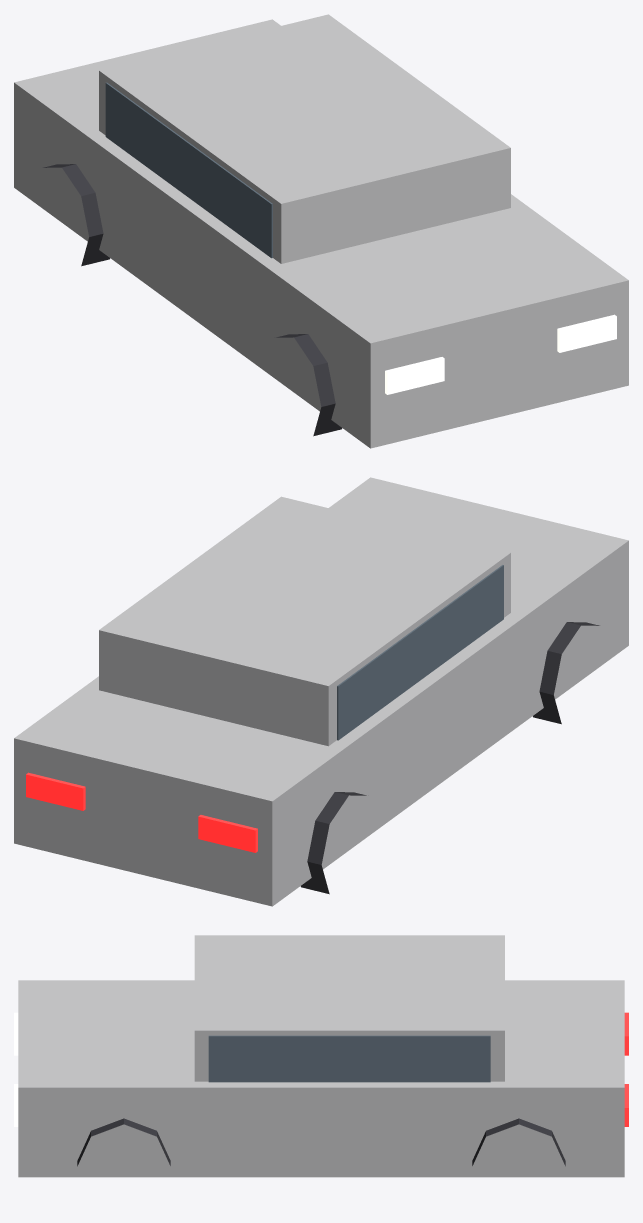
The model's file is car_parked_white.glb.
3 views of the same model, one above another, from view 1: azimuth 30°, elevation 25°; view 2: azimuth 150°, elevation 25°; view 3: azimuth 270°, elevation 25° (orthographic). The views are drawn at different scales.
Visible parts, largest first — view 1: car_parked_white; view 2: car_parked_white; view 3: car_parked_white.
Part boxes in pixels (left/top/right/bottom): car_parked_white: left=14, top=14, right=628, bottom=448; car_parked_white: left=14, top=477, right=628, bottom=906; car_parked_white: left=14, top=935, right=628, bottom=1177.
Bounding box in the file's own units: 2 × 1.3 × 4.36.
